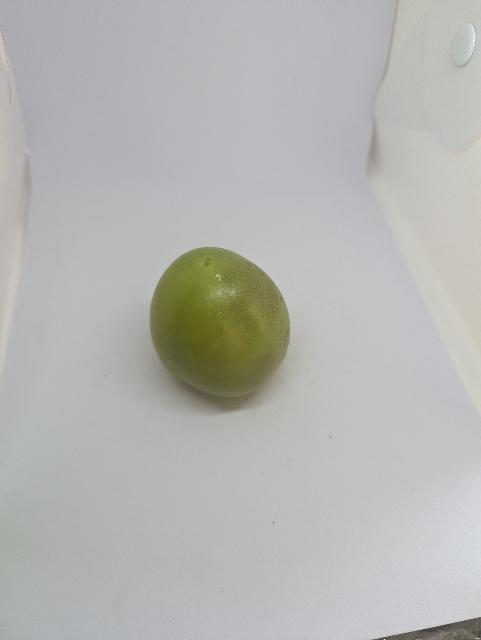green: (142, 236, 300, 418)
